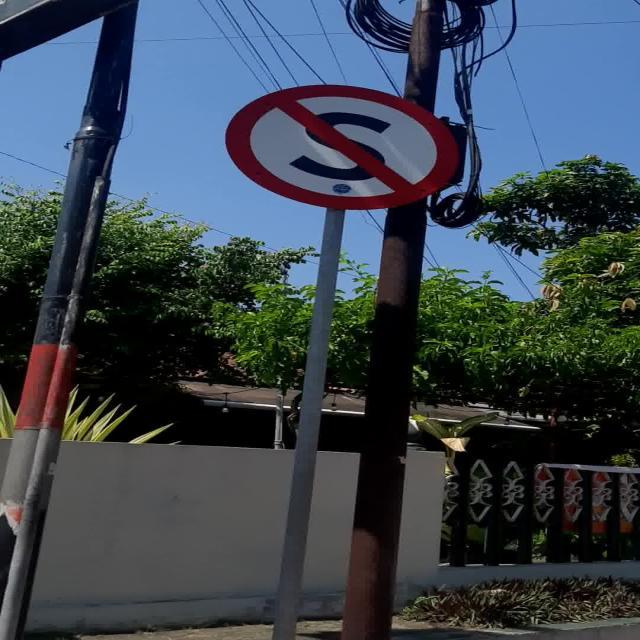Dilarang Berhenti: (225, 84, 458, 210)
